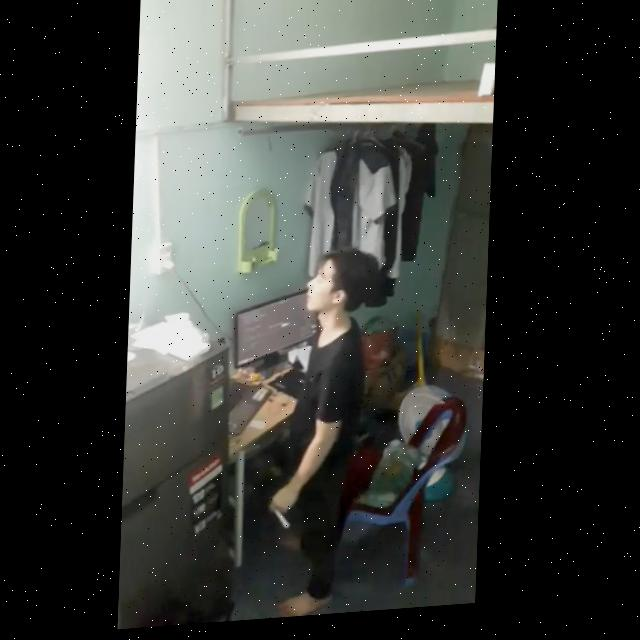cigarette: (272, 507, 294, 534)
